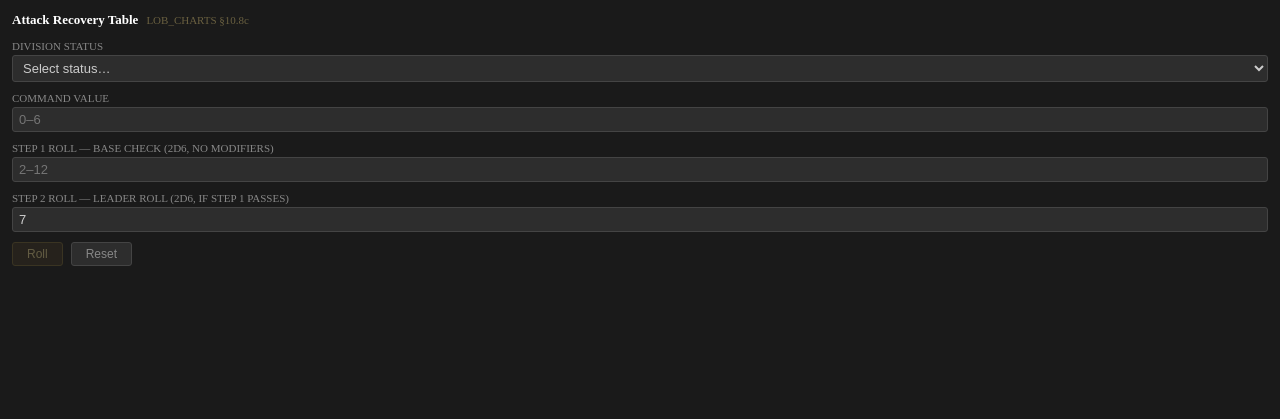
Test: AttackRecoveryPanel › displays result after successful POST
Select "Has Wrecked units, no Dead (threshold 9)" in the dropdown labelled "Division Status" at (640, 68), box [12,55,1268,82]
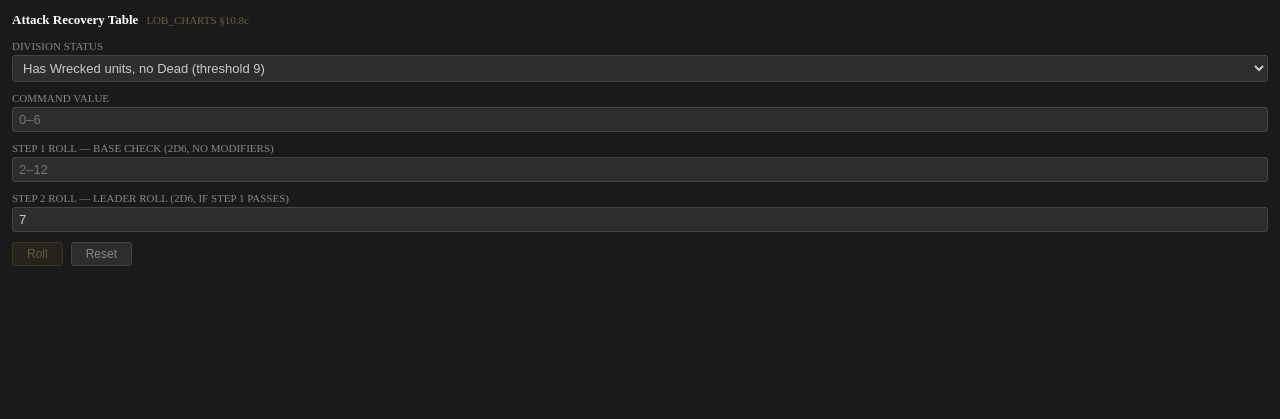
Type "3" into the number field labelled "Command Value" at (640, 120), box [12,107,1268,132]
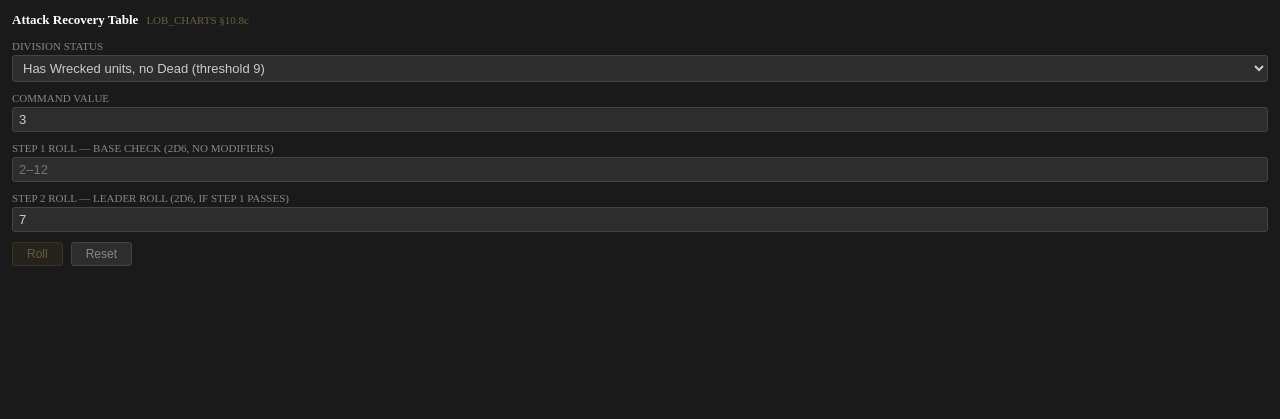
Type "10" into the number field labelled "Step 1 Roll — Base Check (2d6, no modifiers)" at (640, 170), box [12,157,1268,182]
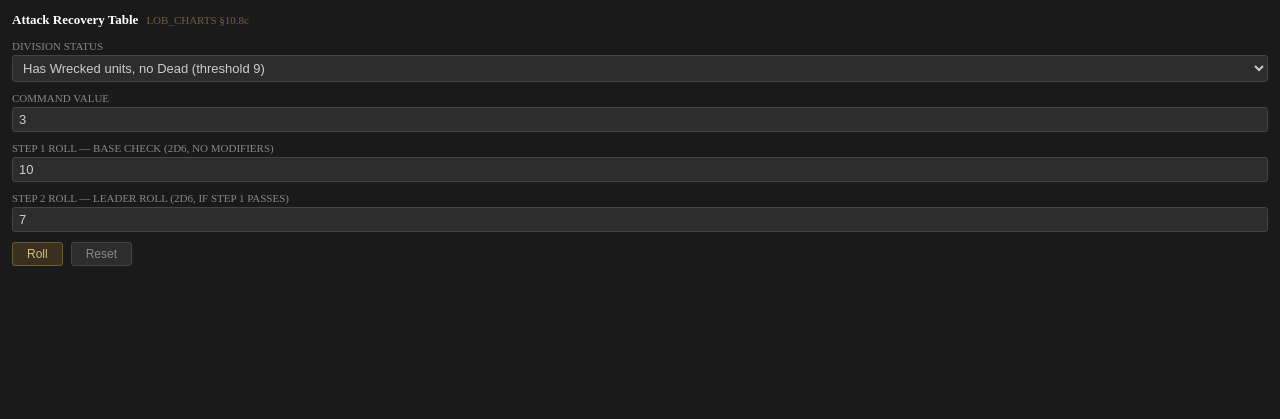
Click the button "Roll" at (37, 254), box [12,242,63,266]
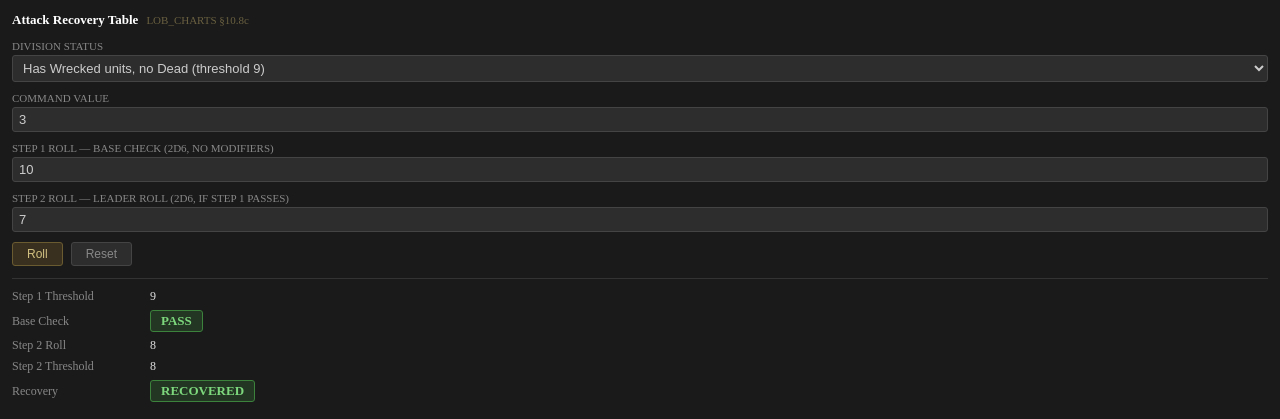
Expected: the text "Base Check" is shown, [12,142,274,154]
Expected: the text "RECOVERED" is shown, [150,380,255,402]
